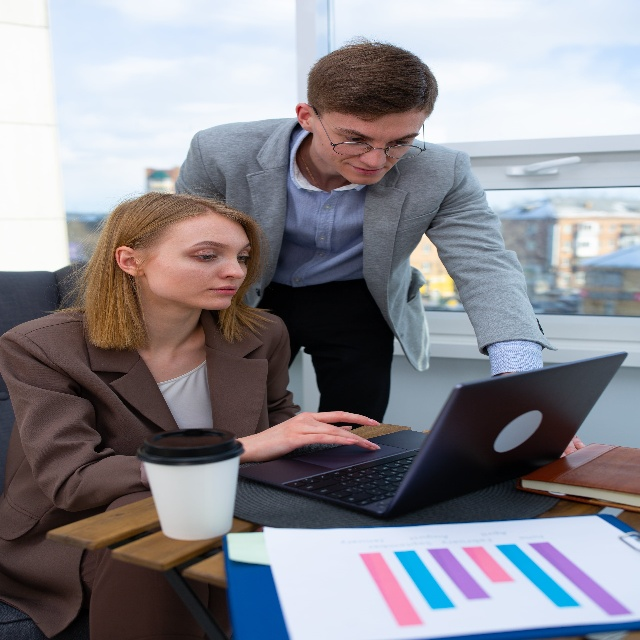Gafas: (332, 138, 423, 162)
Sin_guantes: (272, 409, 384, 460)
